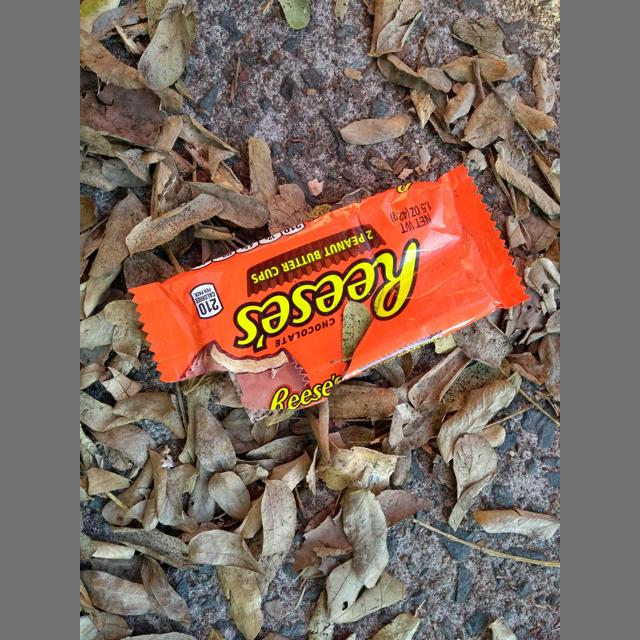litter: (128, 164, 531, 410)
